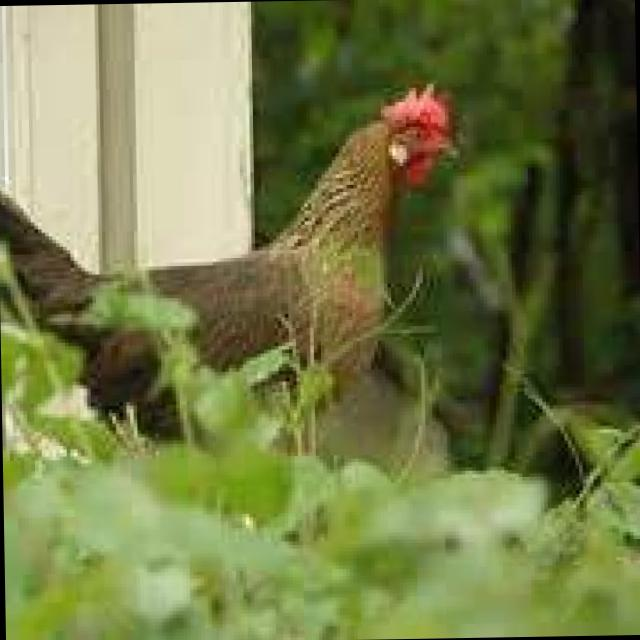chicken: (0, 86, 460, 507)
